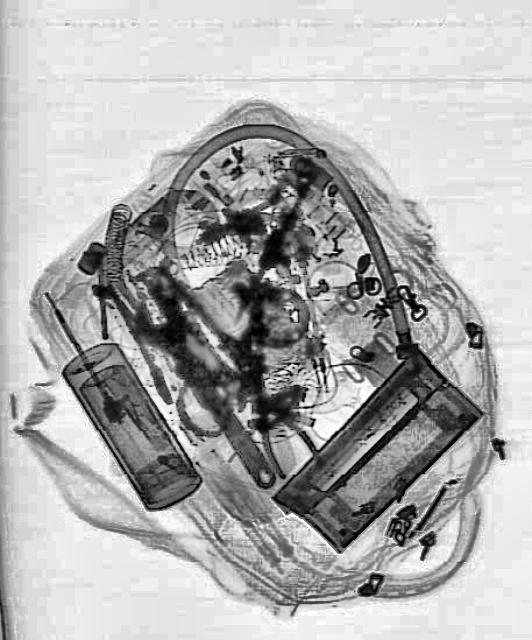Pliers: (235, 367, 324, 488)
Wrench: (125, 282, 290, 502)
